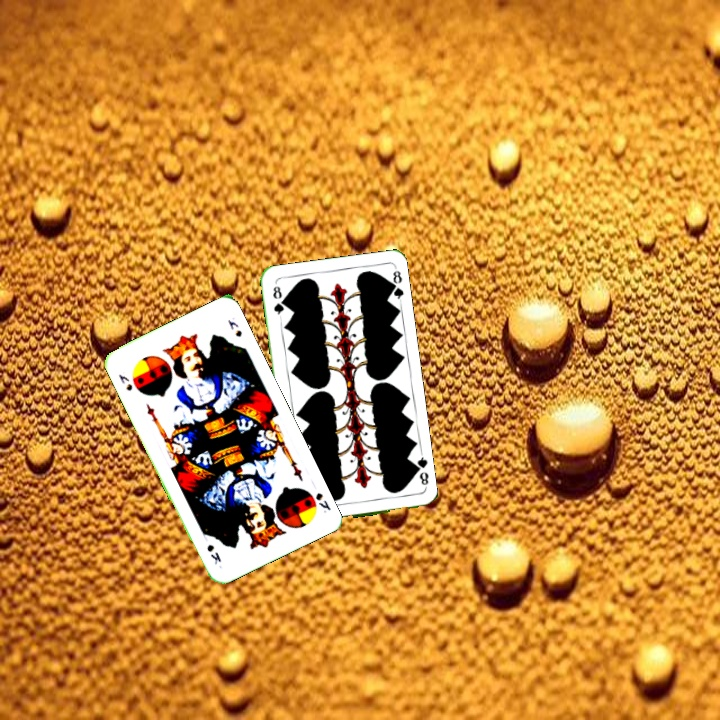G8: (409, 451, 431, 491), (269, 282, 287, 321)
SK: (312, 488, 333, 515), (114, 370, 135, 394)
